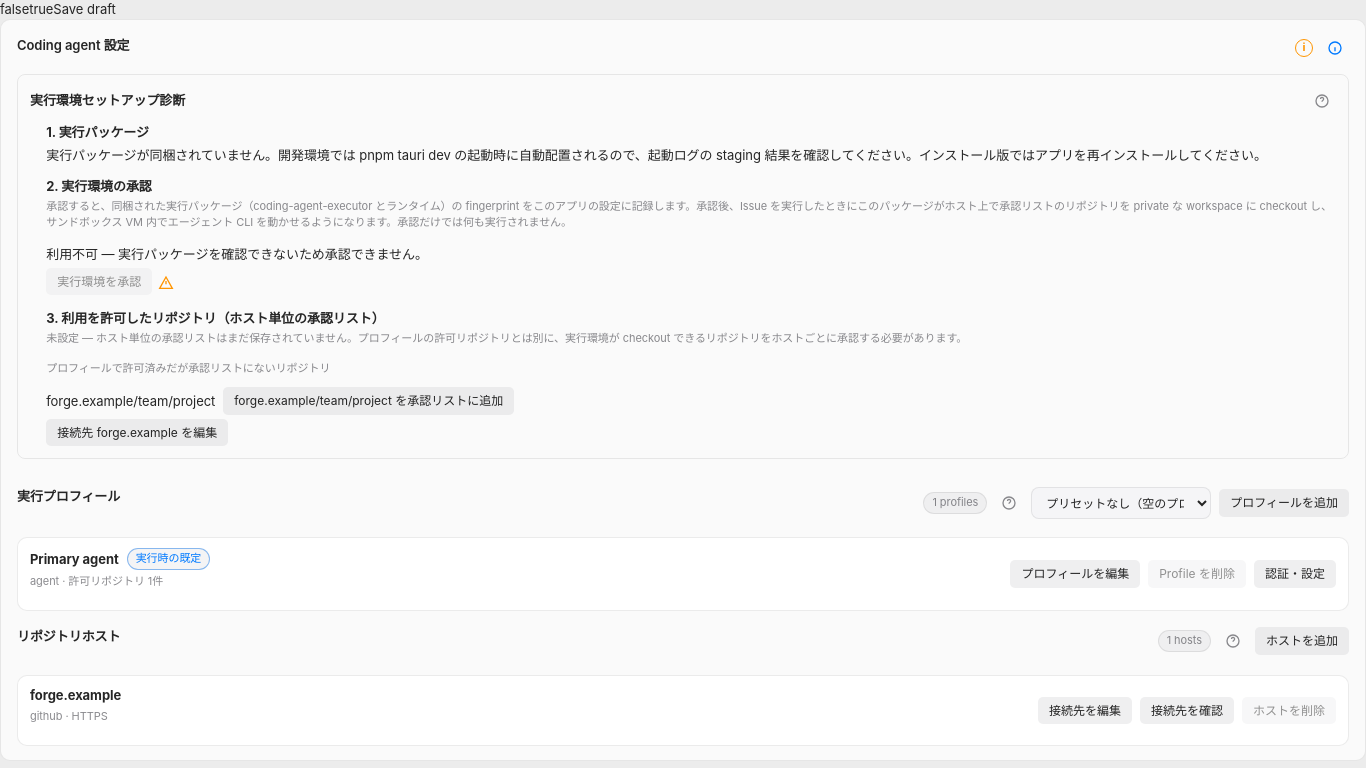
Scenario: Coding agent settings list and dialogs › discards local dialog changes after the close confirmation
The width and height of the screenshot is (1366, 768).
Click the button "プロフィールを編集" at (1075, 574), box left=1010, top=560, right=1140, bottom=588
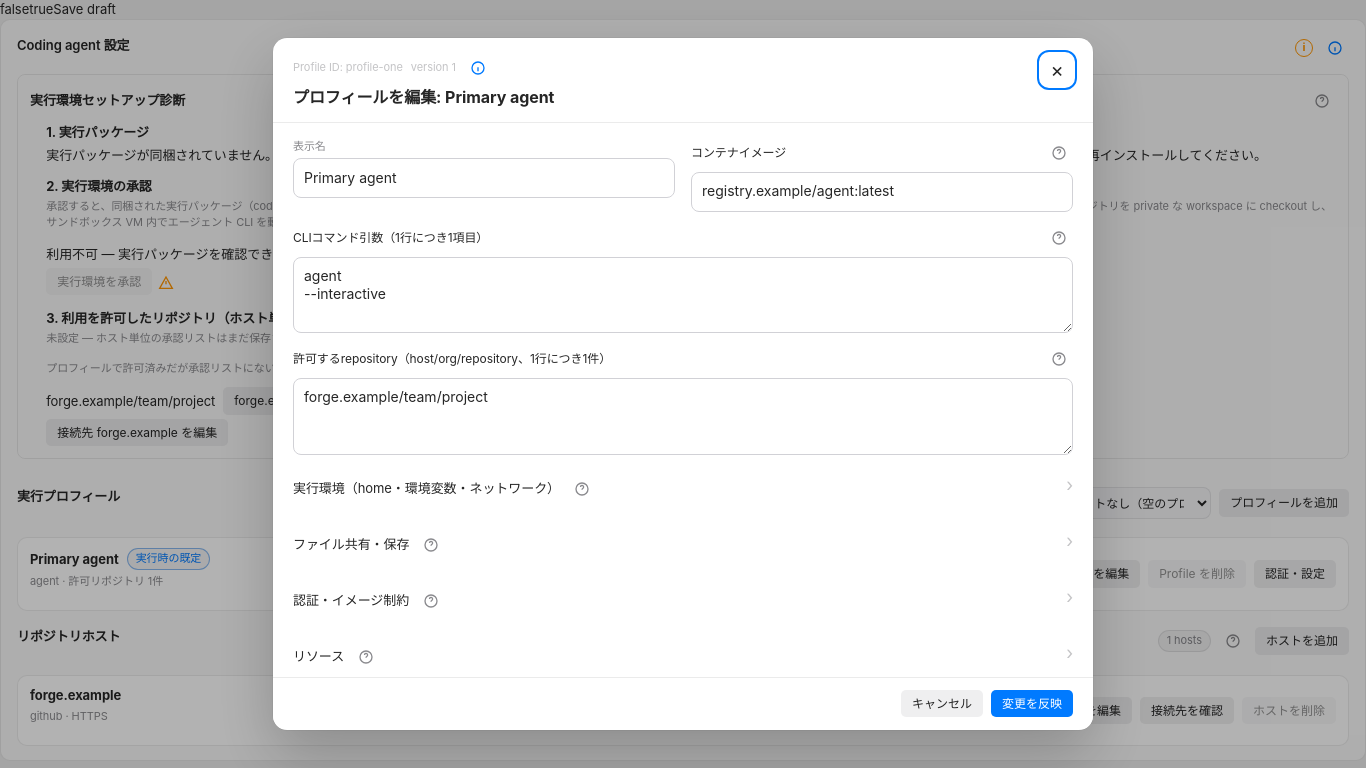
Replace the text in the field labelled "表示名" with "Discarded agent" at (484, 178), box left=293, top=158, right=675, bottom=198
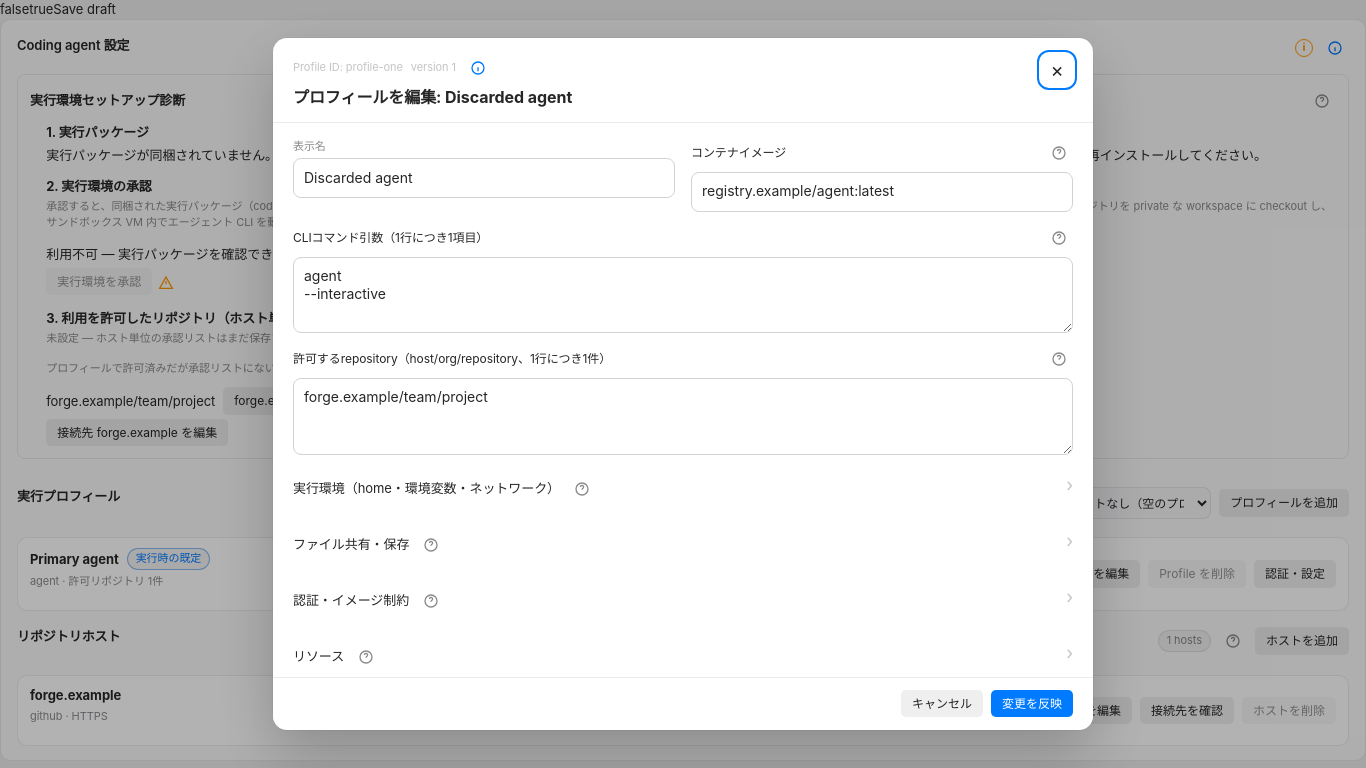
Click the button "キャンセル" at (942, 704), box left=901, top=690, right=983, bottom=718
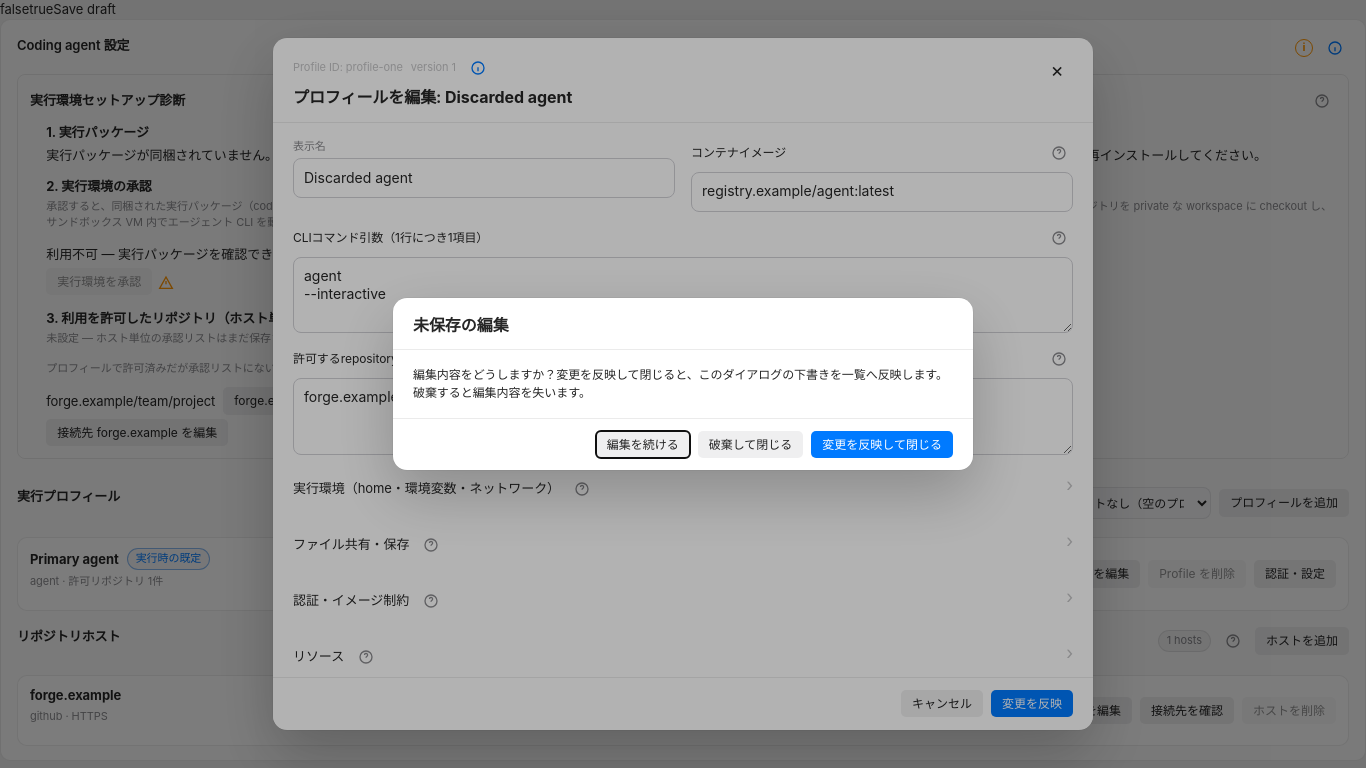
Click the button "破棄して閉じる" at (751, 445), box left=698, top=431, right=803, bottom=458
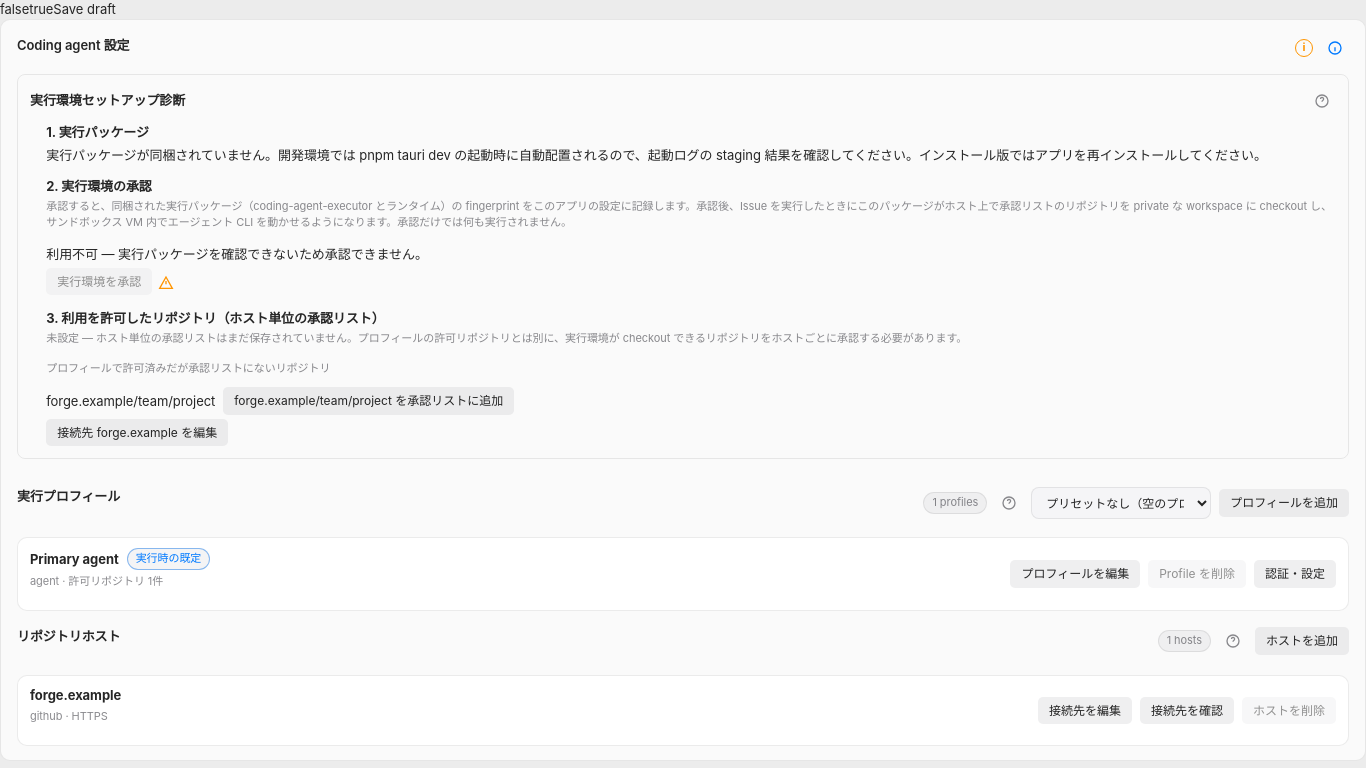
Check: the text "Primary agent" is shown, box left=30, top=550, right=119, bottom=568
Check: the heading "Discarded agent" is gone
